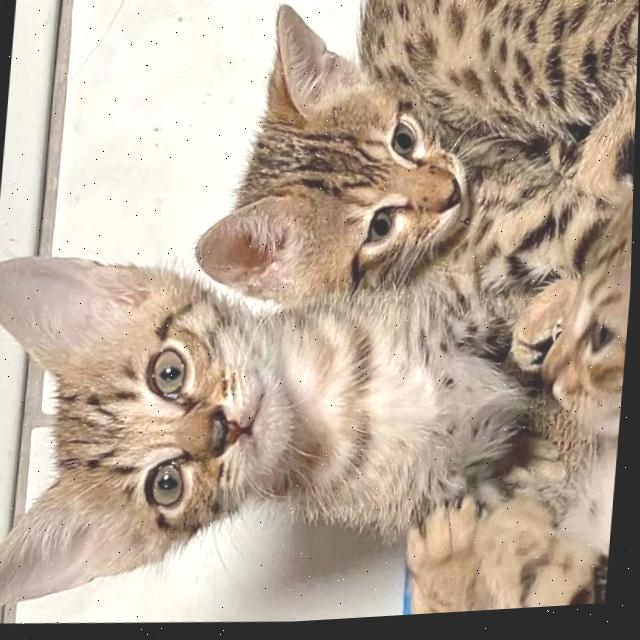Savannah: (0, 222, 589, 640), (189, 0, 640, 335)
